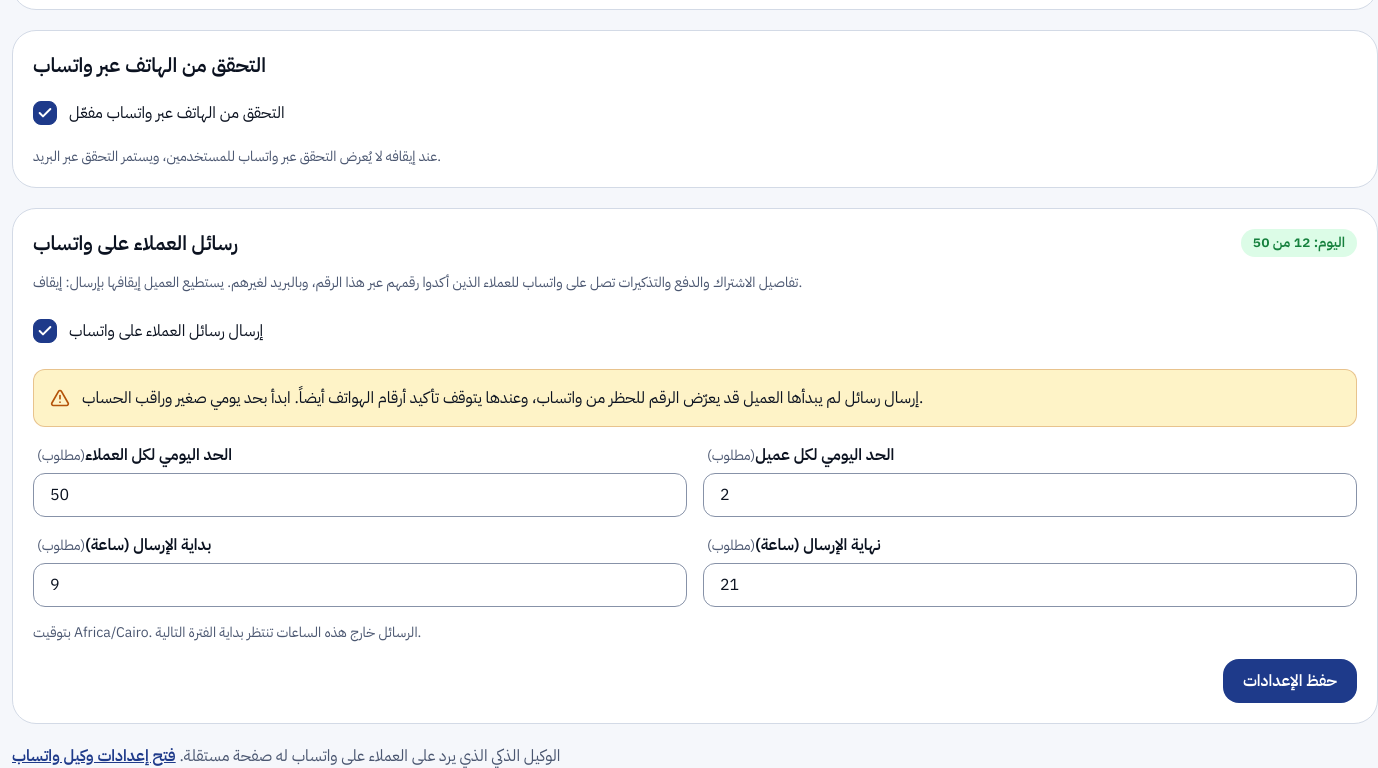
Test case: customer messages on WhatsApp › shows today's count and refuses hours that end before they start
(page scrolled)
Step 1. Replace the text in the field labelled "نهاية الإرسال (ساعة)(مطلوب)" with "8" → (1030, 585), box [703,563,1357,607]
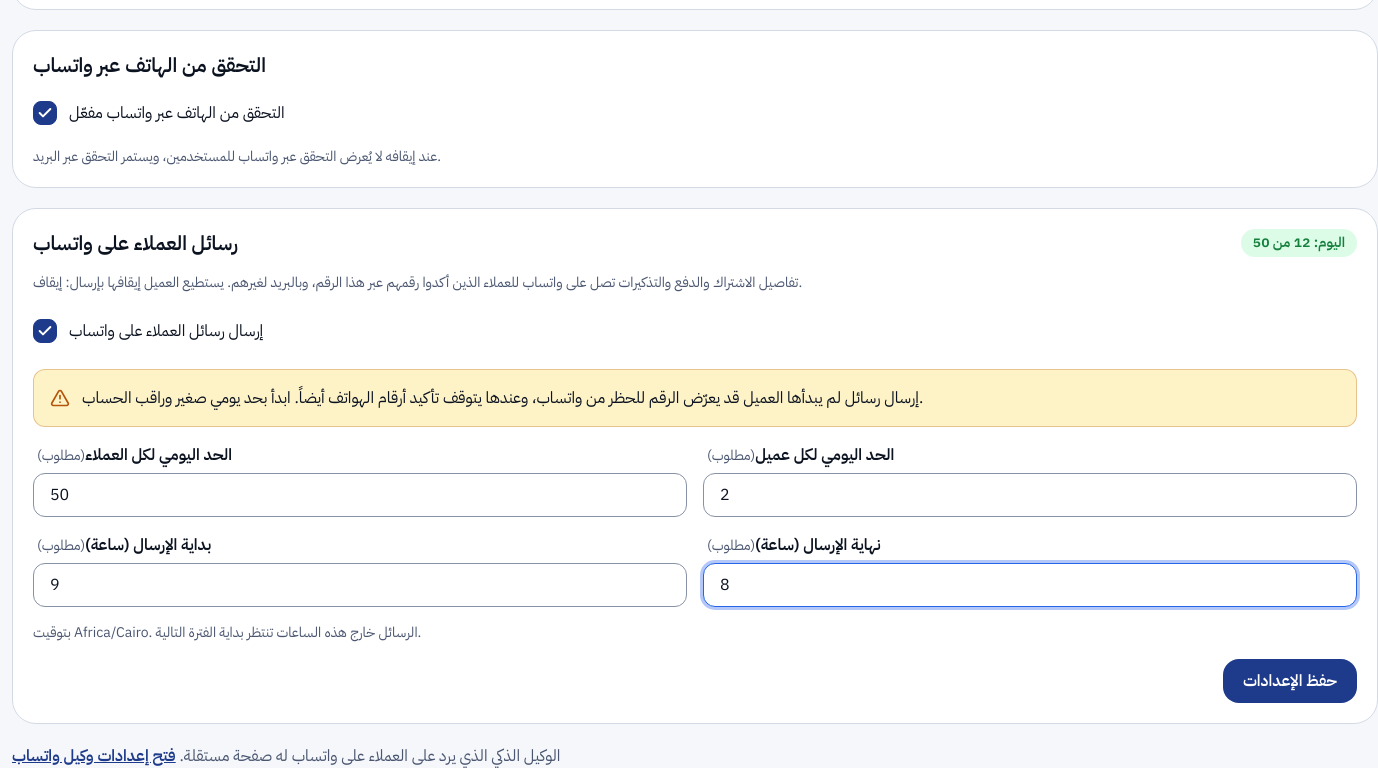
Step 2. Click the button "حفظ الإعدادات" → (1290, 681), box [1223,659,1357,703]
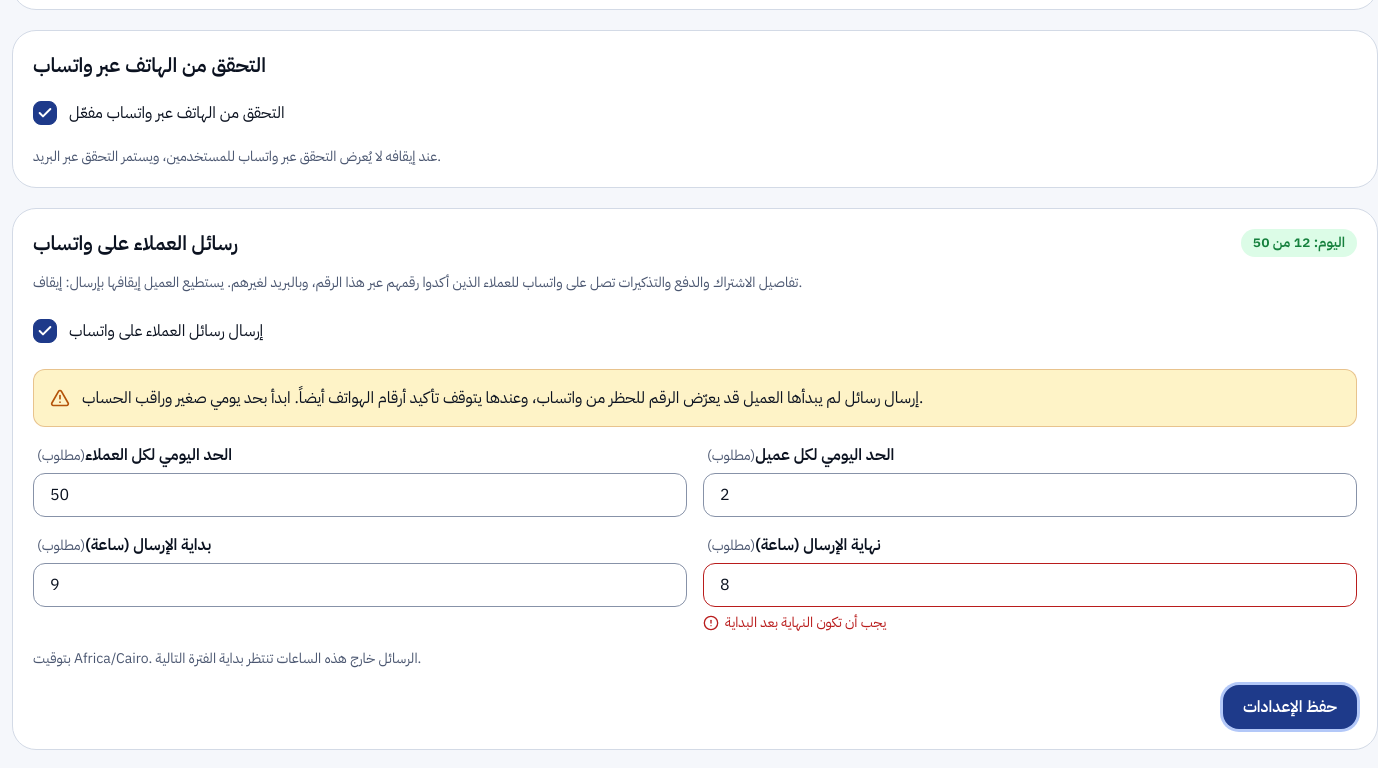
Result: the text "يجب أن تكون النهاية بعد البداية" is shown at [725,613,886,633]
